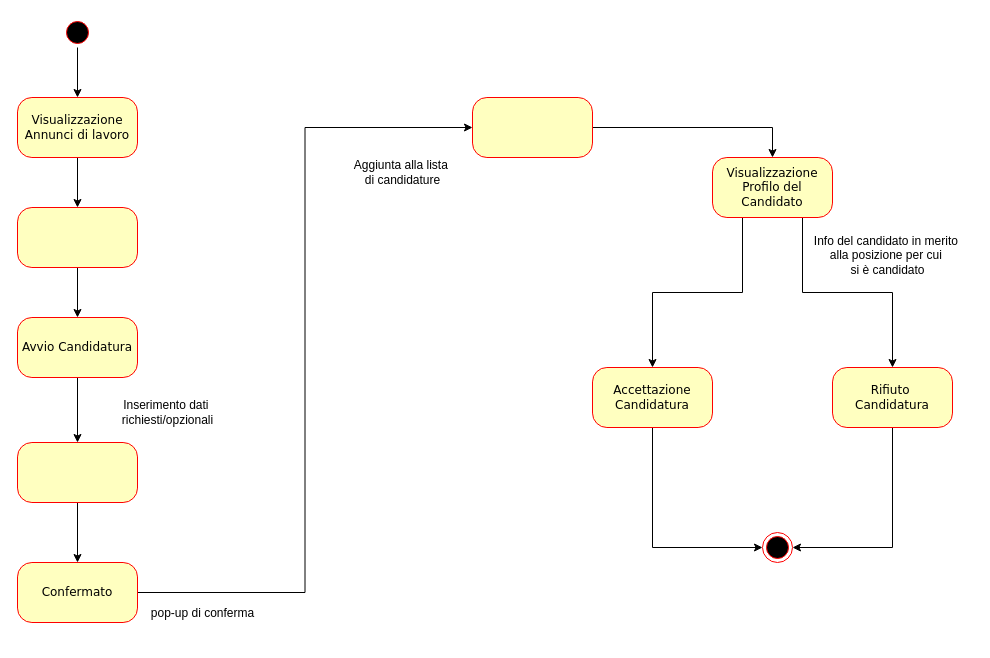
Image size: 990x658. Some labels were removed from this diagram. The shapes that lost their labels are listed below. From the top down, each one's centre as x and y in pixels, then its label:
pixel 532 127: Visualizzazione Candidature
pixel 77 237: Selezione di un Annuncio
pixel 77 472: In attesa di Conferma della Candidatura
